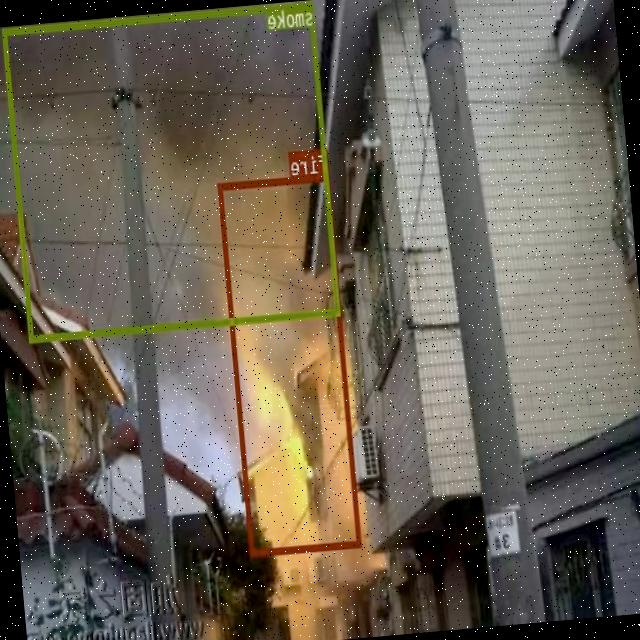fire: (218, 173, 362, 556)
smoke: (2, 1, 340, 341)
